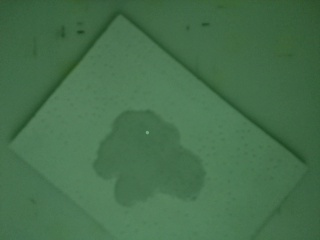Water_detected: (107, 127, 188, 188)
